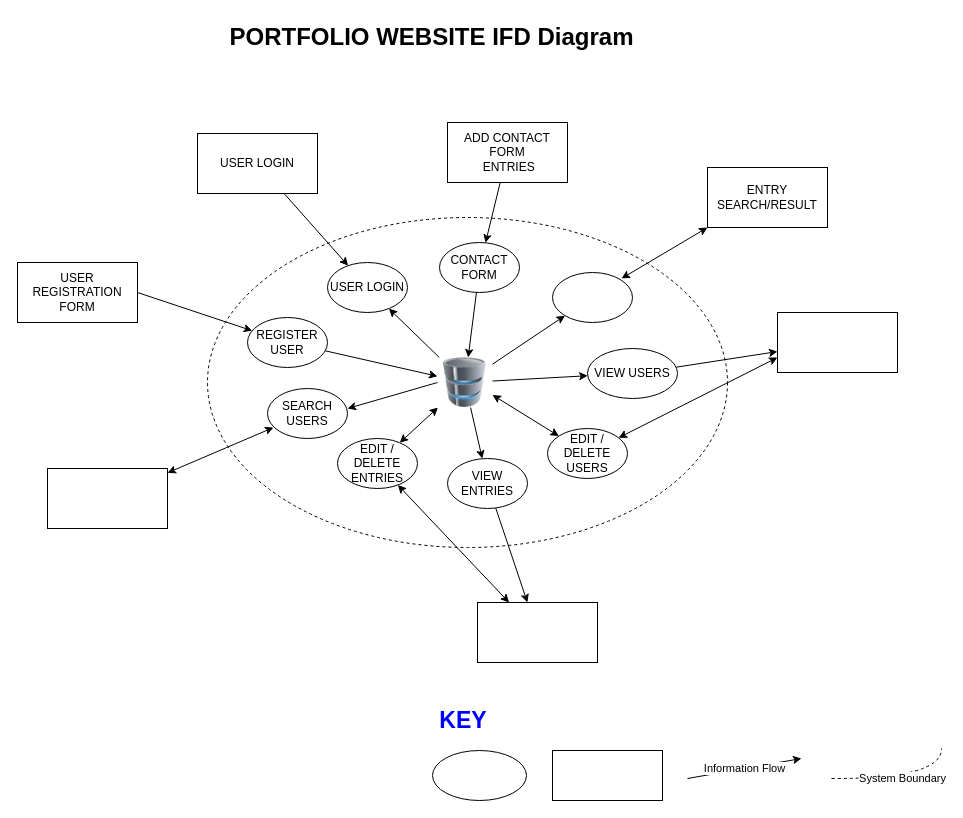
Image size: 963x818. Some labels were removed from this diagram. Here are the shapes that lost their labels. From the top down, the centre of each, then its label:
At (x=592, y=297): "SEARCH ENTRIES".
At (x=837, y=342): "USERS".
At (x=107, y=498): "USER SEARCH/RESULT".
At (x=537, y=632): "ENTRIES".
At (x=479, y=775): "Task Name".
At (x=607, y=775): "Document Name".
